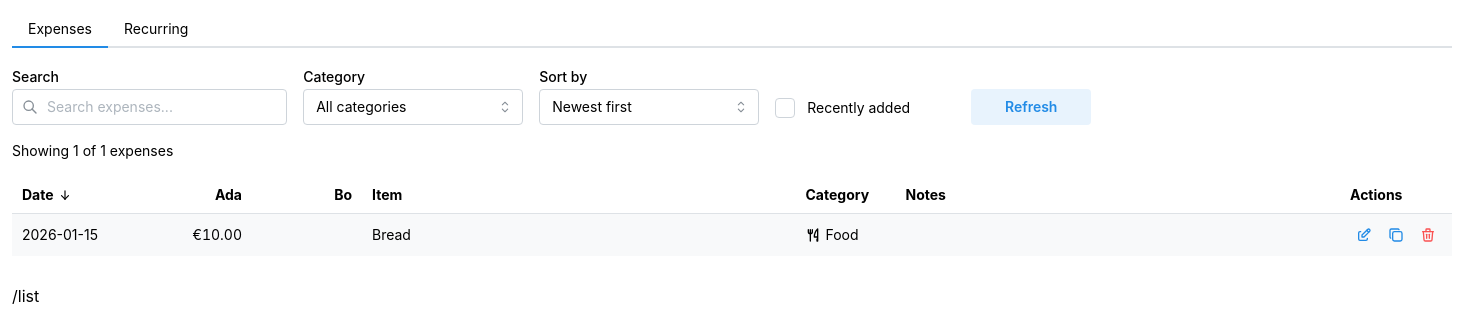
Test case: ExpensesPage › keeps the path on /list when switching tabs
The width and height of the screenshot is (1464, 321).
Click the tab "Recurring": click(156, 30) [108,12,204,48]
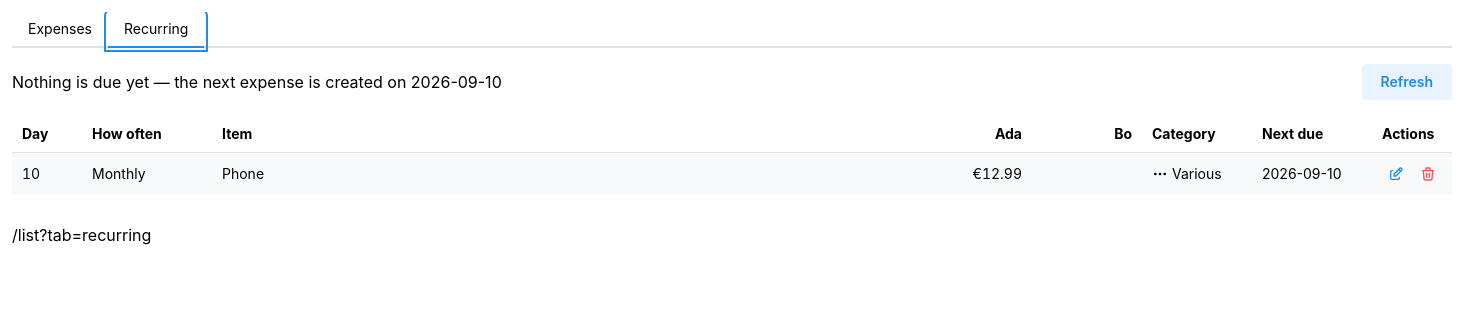
expect the text with test id "location" reads "/list?tab=recurring": met, box [12,225,151,245]
